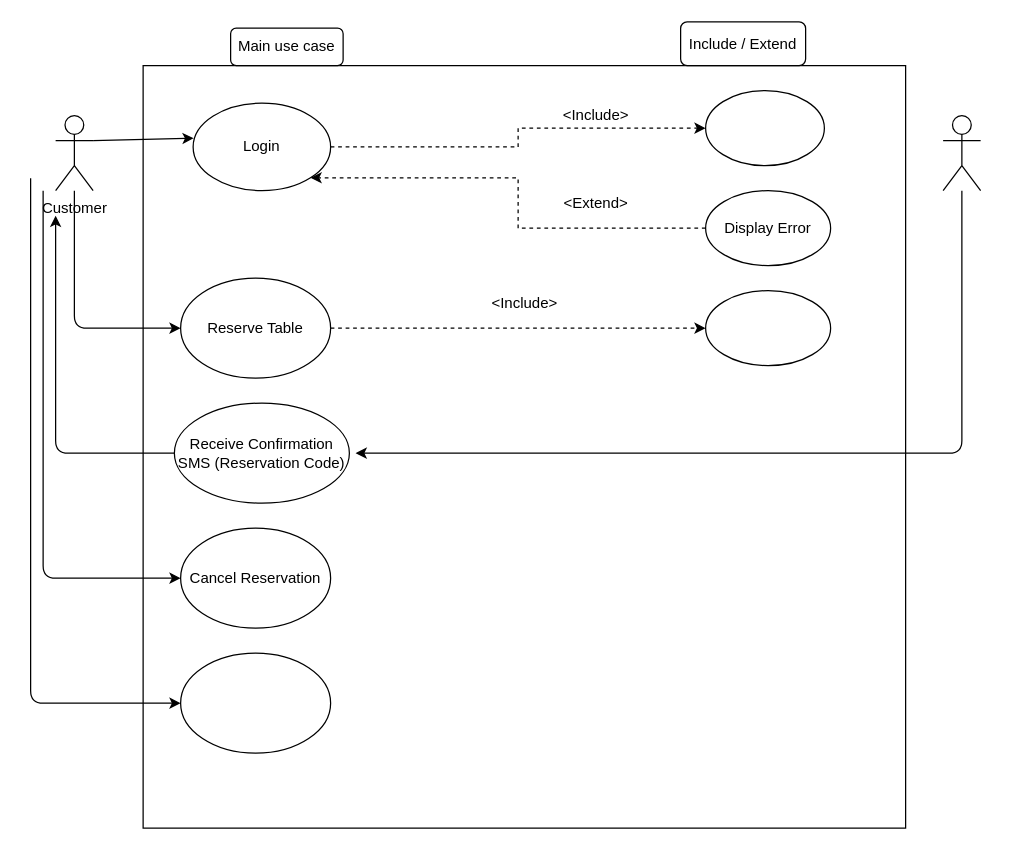
Image size: 1035x850. Some labels were removed from this diagram. Each missing label, with the centre of its shape:
"Check Availability" goes at (767,327).
"Restaurant App" goes at (961,152).
"Update Reservation data" goes at (255,702).
"Verify Password" goes at (764,127).
